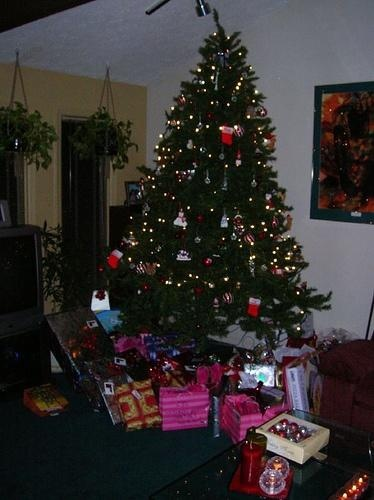pottedplant: (69, 106, 140, 178), (1, 101, 58, 171)
tvmonitor: (1, 223, 47, 343)
